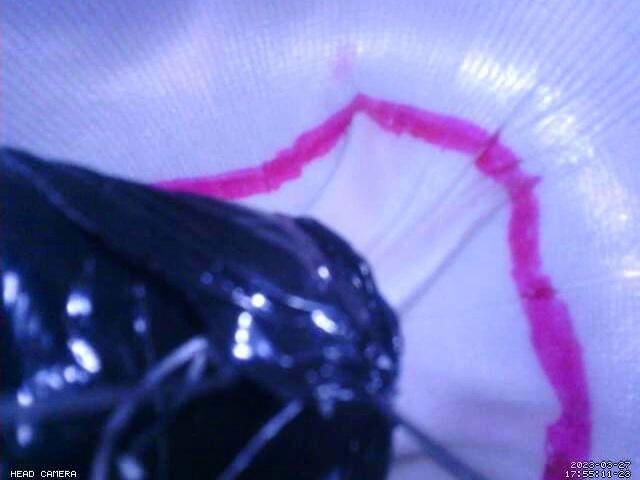red-circle: (153, 92, 595, 480)
